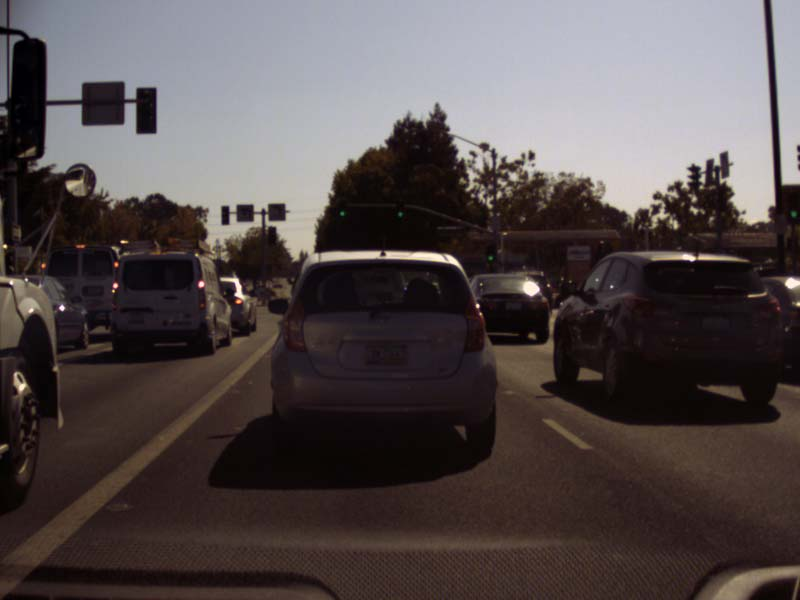Green: (787, 191, 799, 222), (486, 243, 494, 263), (338, 199, 346, 217), (396, 201, 404, 217)
